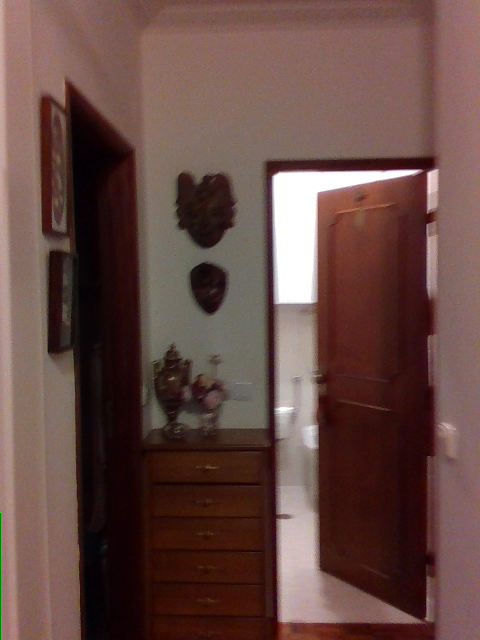semi: (266, 155, 438, 630)
